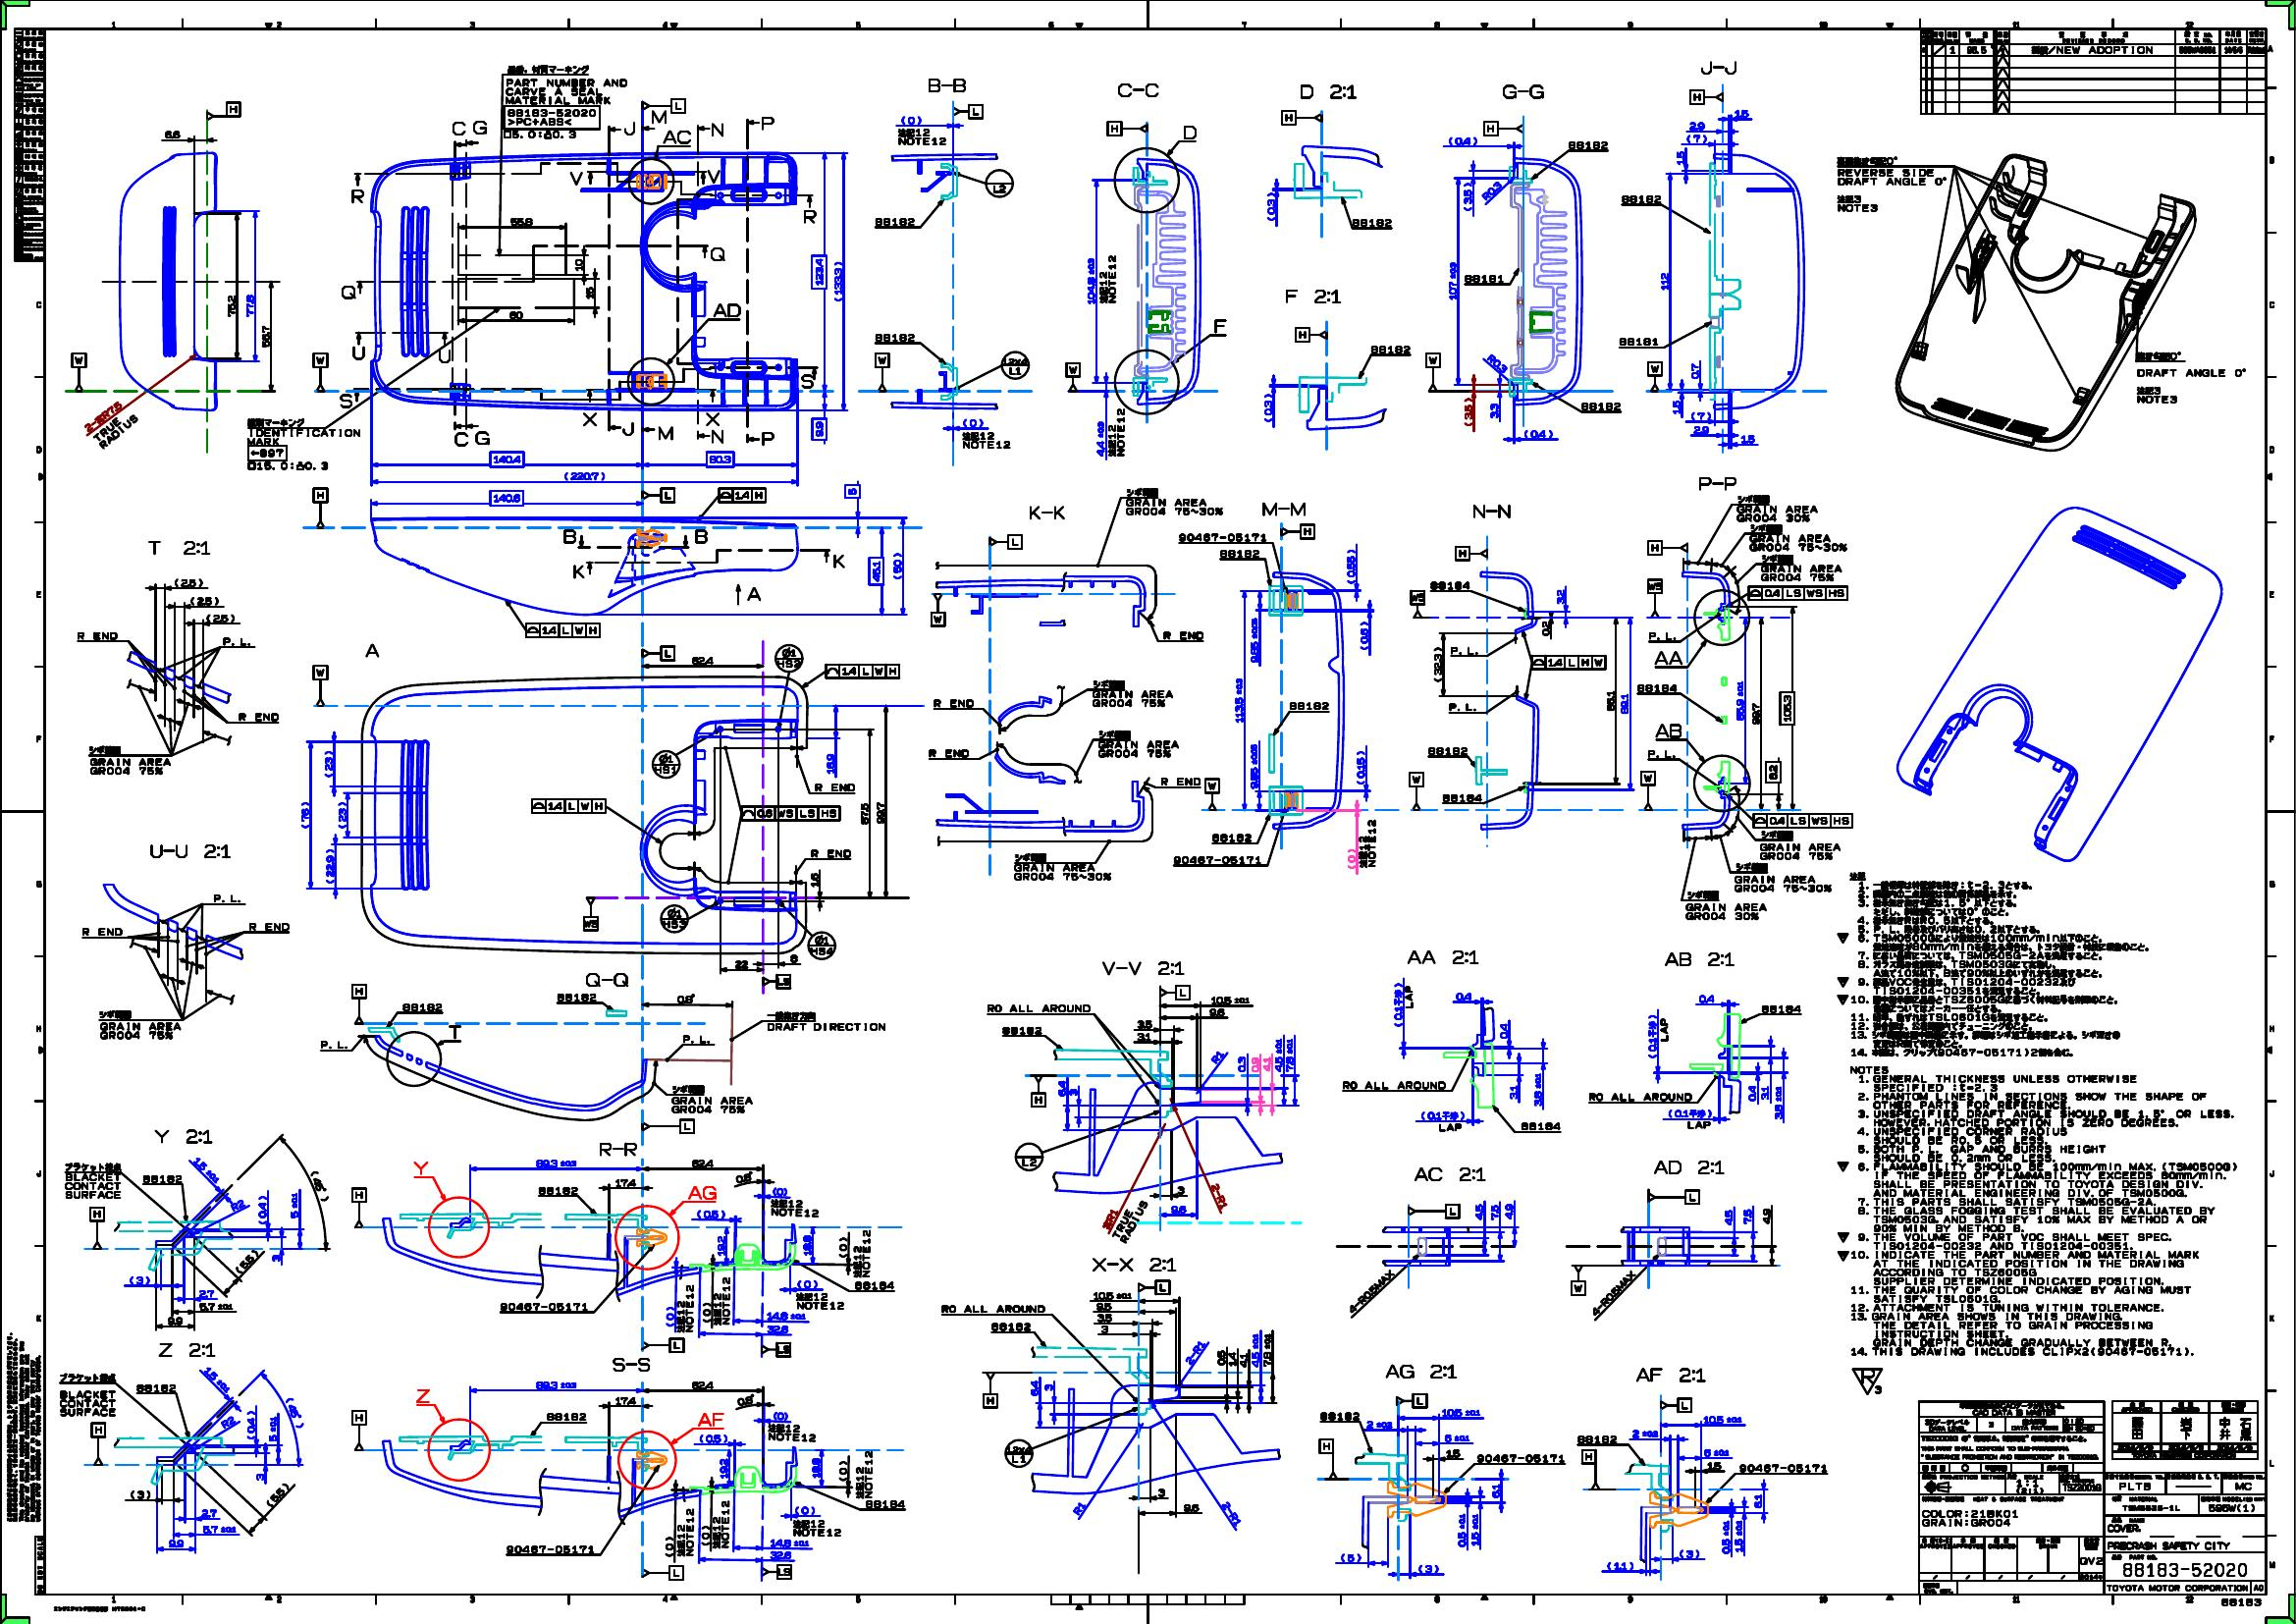anntotation_text: (1834, 1065, 2238, 1359), (1836, 868, 2150, 1058), (502, 63, 627, 141), (4, 1332, 40, 1522), (246, 417, 362, 473), (1836, 155, 1946, 186), (1734, 861, 1832, 893), (1750, 524, 1850, 554), (1124, 487, 1224, 517), (1014, 852, 1112, 882), (764, 1011, 887, 1033), (669, 1083, 754, 1114), (58, 1371, 116, 1417), (1758, 830, 1841, 861), (88, 743, 170, 775), (1736, 494, 1818, 524), (1098, 729, 1180, 759), (1091, 678, 1173, 708), (98, 1009, 181, 1039), (1685, 891, 1767, 919), (1760, 554, 1841, 582), (63, 1162, 121, 1199), (84, 406, 137, 439), (741, 805, 840, 823), (1100, 1199, 1149, 1232), (1751, 812, 1853, 828), (1100, 960, 1186, 977), (148, 842, 232, 859), (1748, 585, 1848, 599), (1089, 1257, 1175, 1272), (1530, 654, 1607, 671), (1383, 1362, 1458, 1380), (1405, 949, 1479, 967), (1414, 1165, 1488, 1183), (1634, 1366, 1708, 1383), (986, 1002, 1091, 1014), (1653, 1158, 1725, 1176), (531, 798, 606, 814), (2136, 367, 2247, 378), (525, 622, 599, 638), (1664, 951, 1736, 967), (940, 1302, 1047, 1313), (1737, 1462, 1829, 1475), (1340, 1079, 1446, 1090), (1588, 1091, 1693, 1102), (1850, 1366, 1883, 1397), (156, 1341, 216, 1359), (153, 1127, 213, 1144), (850, 1229, 871, 1278), (146, 540, 211, 555), (961, 431, 1014, 450), (826, 664, 898, 678), (1646, 1014, 1669, 1058), (1358, 817, 1377, 868), (1393, 982, 1414, 1028), (1421, 1109, 1463, 1132), (497, 1301, 588, 1311), (766, 1422, 815, 1441), (711, 1276, 731, 1325), (769, 1199, 819, 1218), (1107, 408, 1126, 457), (1172, 854, 1261, 865), (1298, 83, 1358, 98), (676, 1508, 696, 1555), (854, 1450, 873, 1497), (1284, 288, 1342, 304), (711, 1497, 729, 1548), (676, 1283, 694, 1334), (1100, 253, 1117, 304), (1000, 350, 1029, 380), (2136, 383, 2178, 404), (648, 749, 680, 777), (1667, 1109, 1713, 1128), (792, 1519, 841, 1536), (796, 1292, 845, 1309), (898, 128, 947, 146), (1014, 1142, 1043, 1171), (1005, 1438, 1033, 1468), (775, 643, 803, 673), (806, 932, 836, 960), (984, 169, 1014, 197), (1260, 499, 1307, 517), (1646, 1188, 1699, 1204), (659, 905, 690, 932), (641, 1118, 694, 1134), (53, 1605, 146, 1613), (1177, 533, 1267, 541), (1476, 1454, 1565, 1462), (504, 1545, 594, 1554), (1318, 1438, 1337, 1478), (1340, 1287, 1404, 1299), (1836, 195, 1880, 213), (610, 1355, 653, 1373), (1502, 83, 1546, 100), (1583, 1287, 1644, 1299), (90, 1422, 107, 1464), (88, 1207, 105, 1250), (1407, 1204, 1458, 1218), (70, 352, 88, 392), (641, 97, 685, 112), (1116, 81, 1159, 97), (717, 487, 766, 501), (1581, 1450, 1599, 1489), (313, 487, 329, 529), (313, 350, 329, 392), (1697, 476, 1739, 492), (639, 1564, 682, 1580), (350, 1186, 365, 1229), (980, 1373, 998, 1410), (583, 972, 629, 986), (1648, 540, 1688, 555), (1472, 504, 1513, 520), (1026, 504, 1066, 520), (313, 666, 329, 707), (351, 984, 367, 1025), (597, 1141, 638, 1156), (926, 77, 966, 93), (875, 352, 891, 392), (1107, 121, 1147, 137), (1281, 111, 1321, 127), (1483, 121, 1523, 137), (639, 1338, 683, 1352), (581, 896, 599, 932), (1409, 772, 1425, 810), (1425, 353, 1440, 392), (641, 643, 675, 661), (2134, 350, 2182, 362), (1648, 578, 1662, 619), (1699, 60, 1739, 74), (351, 1410, 365, 1450), (206, 100, 241, 116), (1660, 1396, 1692, 1413), (1295, 327, 1326, 344), (1641, 772, 1655, 810), (35, 1534, 44, 1596), (1455, 547, 1488, 562), (1281, 524, 1314, 540), (1690, 90, 1723, 105), (643, 487, 676, 503), (661, 128, 690, 146), (989, 1320, 1031, 1332), (237, 710, 279, 722), (1159, 984, 1191, 1000), (1029, 1076, 1045, 1107), (687, 1185, 718, 1200), (810, 847, 850, 859), (1137, 1280, 1172, 1294), (711, 301, 741, 316), (952, 104, 982, 120), (1065, 362, 1080, 392), (989, 534, 1022, 548), (931, 592, 945, 626), (1426, 580, 1470, 591), (1576, 1434, 1620, 1445), (76, 631, 119, 642), (545, 1411, 588, 1422), (2219, 1596, 2261, 1606), (1655, 722, 1683, 738), (1440, 793, 1483, 803), (1217, 547, 1260, 557), (1210, 833, 1253, 844), (1205, 779, 1219, 810), (1159, 775, 1202, 786), (813, 782, 856, 793), (248, 921, 290, 932), (81, 926, 123, 937), (1351, 216, 1393, 227), (1289, 700, 1330, 710), (1760, 1004, 1801, 1014), (1319, 1410, 1360, 1420), (864, 1499, 905, 1510), (1581, 401, 1621, 411), (933, 698, 973, 708), (854, 1280, 894, 1290), (142, 1172, 183, 1183), (875, 216, 915, 227), (1370, 344, 1411, 355), (1567, 139, 1607, 149), (1570, 1265, 1585, 1295), (1397, 1394, 1426, 1408), (761, 1343, 791, 1357), (1409, 591, 1425, 617), (1521, 1121, 1560, 1132), (1621, 193, 1660, 204), (1655, 650, 1683, 664), (762, 1564, 791, 1578), (762, 974, 791, 988), (699, 1411, 724, 1427), (1635, 684, 1678, 692), (928, 749, 970, 758), (1163, 631, 1205, 640), (401, 1002, 443, 1011), (538, 1186, 580, 1195), (1648, 362, 1660, 392), (135, 1383, 176, 1392), (1426, 747, 1467, 756), (1618, 337, 1658, 346), (555, 993, 596, 1002), (1001, 1025, 1042, 1033), (875, 332, 915, 341), (1463, 274, 1504, 283), (1448, 701, 1477, 712), (221, 636, 251, 647), (682, 1033, 711, 1044), (450, 120, 467, 137), (708, 121, 726, 139), (708, 246, 726, 264), (339, 283, 357, 301), (451, 431, 469, 448), (473, 429, 490, 446), (757, 431, 775, 448), (798, 373, 815, 390), (1648, 631, 1676, 642), (1648, 749, 1676, 759), (213, 893, 241, 903), (320, 1039, 348, 1049), (622, 121, 639, 137), (704, 167, 722, 183), (348, 188, 365, 204), (350, 344, 365, 362), (437, 346, 453, 364), (337, 392, 355, 408), (581, 411, 597, 429), (704, 411, 720, 429), (411, 1160, 429, 1176), (801, 207, 817, 225), (560, 529, 578, 545), (571, 562, 587, 580), (745, 585, 762, 601), (831, 552, 848, 568), (1449, 647, 1479, 656), (657, 425, 673, 441), (471, 121, 487, 137), (650, 111, 666, 127), (567, 170, 583, 186), (622, 420, 638, 436), (708, 429, 724, 445), (415, 1387, 430, 1403), (692, 529, 708, 545), (1182, 123, 1196, 141), (364, 643, 379, 657), (675, 993, 696, 1004), (761, 116, 775, 132), (1212, 318, 1226, 334), (448, 1025, 462, 1039)
dimension_text: (1084, 257, 1096, 306), (488, 490, 522, 506), (1233, 677, 1244, 722), (812, 255, 826, 288), (1780, 691, 1794, 724), (562, 471, 606, 482), (833, 262, 843, 304), (1734, 680, 1744, 722), (288, 1396, 300, 1431), (706, 450, 733, 466), (490, 453, 523, 466), (313, 1169, 325, 1202), (1093, 1290, 1131, 1301), (199, 1374, 237, 1385), (1249, 617, 1258, 663), (1249, 743, 1258, 789), (1448, 262, 1458, 299), (1432, 647, 1442, 684), (534, 1158, 578, 1167), (868, 557, 882, 584), (536, 1380, 578, 1388), (764, 1311, 806, 1320), (1346, 548, 1356, 584), (1702, 1413, 1743, 1422), (1210, 995, 1249, 1004), (769, 1538, 808, 1547), (1442, 1408, 1481, 1417), (262, 1489, 293, 1499), (1765, 761, 1781, 782), (1096, 420, 1105, 457), (696, 1207, 726, 1218), (1265, 192, 1275, 221), (1448, 135, 1477, 146), (1462, 181, 1472, 211), (256, 1195, 267, 1225), (697, 1432, 727, 1443), (1358, 620, 1368, 650), (190, 596, 220, 606), (206, 613, 235, 624), (202, 1526, 237, 1534), (1722, 1519, 1730, 1554), (1274, 1037, 1282, 1072), (1284, 1037, 1293, 1072), (325, 849, 334, 884), (892, 552, 903, 580), (812, 418, 826, 439), (1205, 1192, 1233, 1202), (1365, 1418, 1393, 1429), (174, 576, 202, 587), (1263, 1334, 1272, 1367), (1734, 1519, 1743, 1552), (199, 1302, 232, 1311), (190, 1165, 223, 1174), (1456, 1513, 1465, 1547), (1774, 1086, 1783, 1120), (1356, 750, 1365, 784), (246, 1410, 255, 1441), (1216, 1510, 1247, 1519), (1182, 1346, 1209, 1357), (1477, 186, 1504, 197), (1523, 429, 1555, 438), (1470, 1513, 1479, 1545), (299, 801, 309, 828), (1263, 392, 1272, 422), (232, 1257, 262, 1265), (1251, 1332, 1258, 1367), (1606, 1561, 1634, 1570), (1702, 1446, 1730, 1455), (1463, 397, 1472, 425), (323, 750, 332, 779), (1339, 1552, 1361, 1562), (899, 114, 922, 125), (859, 801, 870, 824), (1534, 1072, 1541, 1106), (1632, 1429, 1658, 1438), (290, 1192, 299, 1218), (337, 801, 346, 828), (963, 417, 984, 427), (128, 1274, 149, 1285), (718, 1457, 729, 1478), (269, 1417, 278, 1441), (1484, 359, 1509, 367), (875, 800, 884, 824), (246, 294, 255, 318), (220, 1417, 239, 1427), (1679, 1548, 1699, 1559), (796, 1504, 815, 1515), (838, 1236, 847, 1258), (803, 1234, 812, 1257), (717, 1234, 726, 1257), (690, 1158, 713, 1167), (664, 1534, 673, 1557), (769, 1550, 792, 1559), (690, 1380, 713, 1388), (1751, 701, 1760, 724), (690, 656, 713, 664), (262, 325, 271, 348), (509, 216, 532, 225), (845, 483, 859, 497), (130, 1489, 151, 1497), (736, 1172, 754, 1183), (615, 1178, 636, 1186), (1760, 1207, 1771, 1225), (1658, 272, 1669, 290), (1686, 134, 1708, 142), (615, 1396, 636, 1404), (812, 1457, 820, 1478), (838, 1461, 847, 1482), (703, 1301, 711, 1322), (1444, 1434, 1470, 1441), (1418, 1564, 1439, 1573), (1504, 1202, 1514, 1220), (1697, 993, 1715, 1004), (1620, 692, 1628, 714), (826, 752, 834, 773), (227, 295, 235, 316), (1606, 691, 1614, 710), (1347, 849, 1356, 868), (1237, 1056, 1247, 1072), (1249, 1056, 1260, 1072), (1753, 1494, 1764, 1510), (1674, 149, 1685, 165), (167, 1538, 184, 1547), (1029, 1378, 1038, 1396), (1096, 1313, 1114, 1322), (1723, 1207, 1732, 1225), (1743, 1207, 1751, 1225), (1474, 1202, 1483, 1220), (1490, 1202, 1498, 1220), (1690, 362, 1699, 380), (1688, 121, 1706, 130), (165, 1316, 183, 1325), (736, 1396, 754, 1404), (771, 1411, 789, 1420), (1170, 1204, 1188, 1213), (1748, 1084, 1757, 1102), (1455, 991, 1472, 1000), (163, 130, 181, 139), (766, 1325, 787, 1332), (796, 1280, 817, 1287), (1690, 413, 1711, 420), (701, 1524, 708, 1545), (666, 1306, 673, 1327), (1446, 1448, 1460, 1459), (810, 872, 820, 886), (200, 1508, 216, 1517), (771, 1186, 787, 1195), (1072, 1504, 1087, 1513), (1182, 1503, 1198, 1512), (1216, 1350, 1224, 1366), (1228, 1352, 1237, 1367), (1238, 1352, 1247, 1367), (1137, 1019, 1152, 1028), (1209, 1007, 1224, 1016), (1209, 1053, 1224, 1062), (1706, 1461, 1722, 1469), (508, 311, 523, 320), (1490, 402, 1498, 418), (1693, 425, 1709, 434), (230, 1200, 246, 1209), (1491, 1483, 1500, 1499), (1760, 1084, 1769, 1100), (1498, 1023, 1507, 1039), (1541, 620, 1549, 636), (733, 960, 748, 968), (1094, 1302, 1112, 1309), (1137, 1032, 1151, 1040), (1741, 434, 1755, 443), (197, 1290, 214, 1297), (1263, 1056, 1272, 1070), (1509, 1084, 1518, 1098), (574, 257, 583, 271), (1058, 1081, 1065, 1097), (1672, 399, 1679, 415), (1734, 109, 1750, 116), (1556, 589, 1563, 605), (585, 286, 594, 299), (1043, 1383, 1054, 1392), (1175, 1185, 1184, 1195), (789, 953, 798, 963), (255, 1471, 264, 1480), (1158, 1487, 1165, 1497), (1100, 1325, 1108, 1332), (1070, 1088, 1077, 1095)
object: (360, 673, 808, 954), (1892, 503, 2226, 863), (369, 149, 798, 411), (1892, 149, 2199, 455), (935, 561, 1154, 842), (371, 517, 799, 613), (1029, 1345, 1281, 1496), (379, 1209, 799, 1297), (381, 1432, 799, 1519), (1051, 1049, 1284, 1193), (364, 1007, 659, 1120), (889, 153, 1000, 411), (118, 149, 220, 413), (1708, 149, 1806, 411), (1267, 569, 1347, 831), (1507, 155, 1585, 406), (1131, 155, 1203, 406), (1681, 559, 1743, 844), (1479, 568, 1541, 831), (102, 881, 242, 960), (1353, 1452, 1448, 1550), (1625, 1462, 1709, 1562), (114, 1220, 235, 1272), (112, 1436, 237, 1485), (125, 650, 230, 705), (1444, 1005, 1497, 1111), (1690, 1012, 1743, 1114), (1298, 374, 1388, 432), (1293, 144, 1383, 200), (1620, 1225, 1713, 1267), (1383, 1225, 1470, 1267)
title_block: (1917, 1401, 2268, 1594), (1918, 28, 2268, 114), (12, 28, 46, 262)
